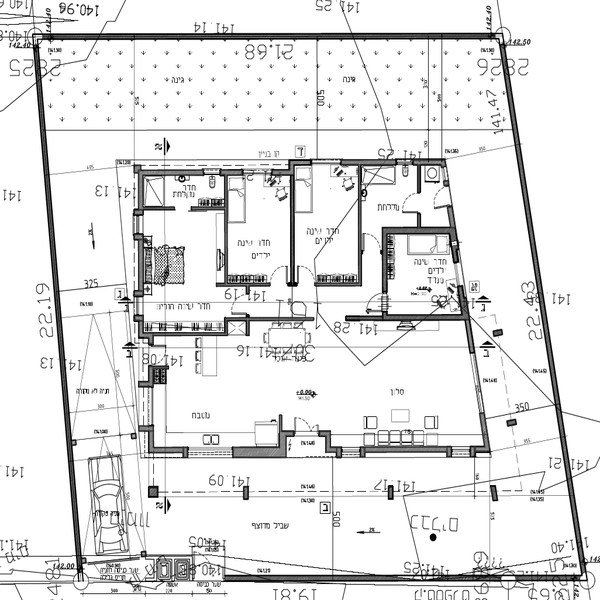door: (285, 412, 319, 439), (263, 262, 293, 292), (295, 261, 317, 294), (435, 184, 454, 214), (361, 291, 387, 312), (399, 193, 422, 214)
wall: (348, 310, 467, 328), (217, 166, 233, 293), (354, 157, 369, 286), (225, 313, 317, 331), (137, 324, 227, 341), (361, 443, 457, 458), (287, 156, 297, 292), (378, 223, 457, 239), (234, 439, 288, 460), (137, 165, 205, 181), (337, 154, 400, 170), (132, 236, 148, 294), (471, 418, 491, 454), (141, 421, 160, 457)
window: (183, 443, 233, 460)
